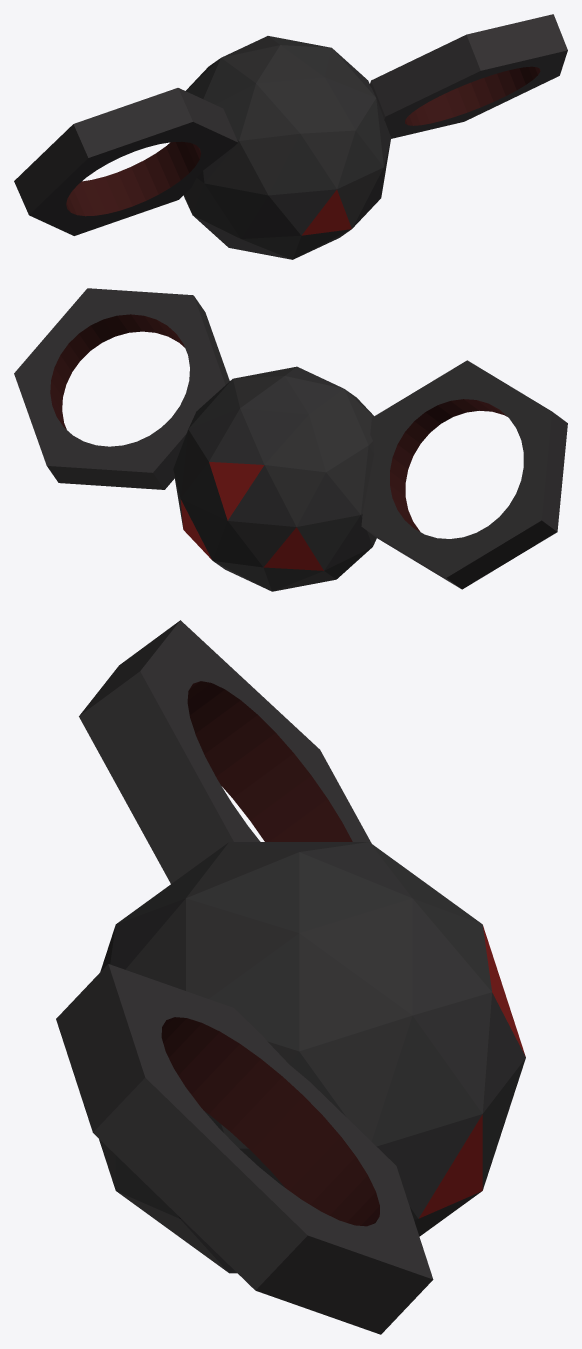
The model's file is drone-v6.fbx.
The picture shows the model from 3 angles, top to bottom: view 1: azimuth 30°, elevation 25°; view 2: azimuth 150°, elevation 25°; view 3: azimuth 270°, elevation 25°; orthographic projection. The views are drawn at different scales.
Visible parts, largest first — view 1: Icosphere, Circle, Circle.001; view 2: Icosphere, Circle, Circle.001; view 3: Icosphere, Circle.001, Circle.
Part boxes in pixels (bbox=[...]): Icosphere: bbox=[183, 36, 390, 259]; Circle: bbox=[14, 88, 238, 235]; Circle.001: bbox=[369, 14, 567, 138]; Icosphere: bbox=[173, 366, 376, 591]; Circle: bbox=[361, 360, 567, 589]; Circle.001: bbox=[14, 288, 229, 489]; Icosphere: bbox=[99, 842, 525, 1273]; Circle.001: bbox=[56, 964, 433, 1334]; Circle: bbox=[79, 620, 371, 883].
Size of the model in its own units: 540 by 221 by 207.
